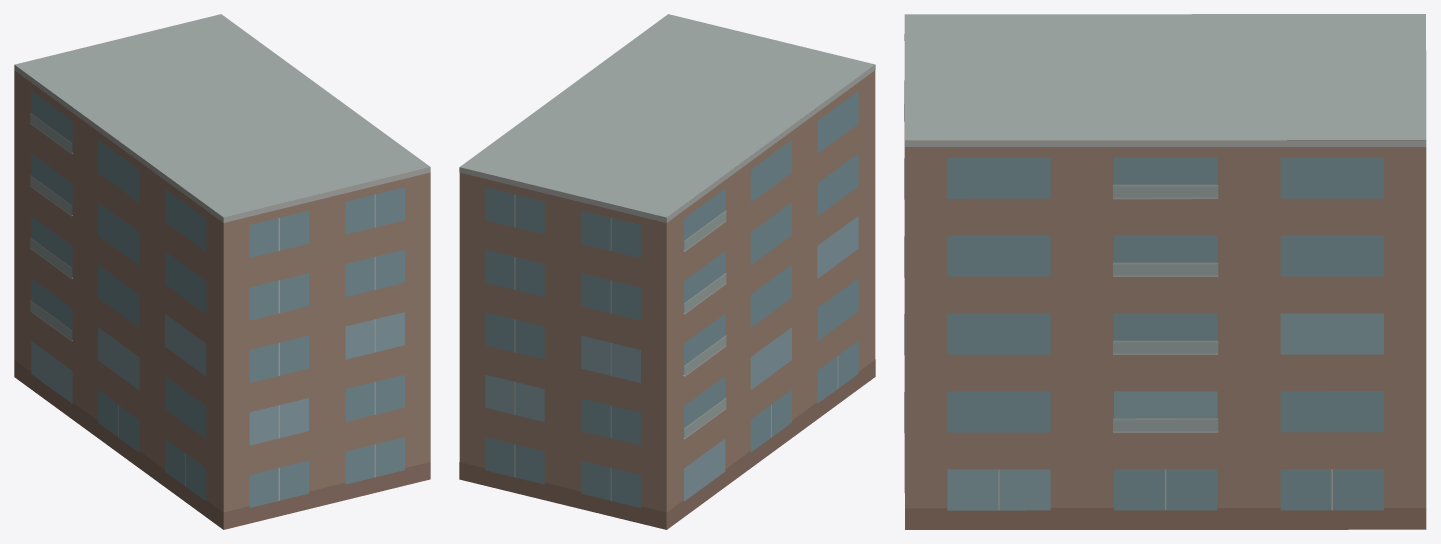
The model's file is survey-upis-32792961.glb.
The picture shows the model from 3 angles, left to right: view 1: azimuth 30°, elevation 25°; view 2: azimuth 150°, elevation 25°; view 3: azimuth 270°, elevation 25°; orthographic projection. The views are drawn at different scales.
Visible parts, largest first — view 1: survey-upis-32792961.tmp; view 2: survey-upis-32792961.tmp; view 3: survey-upis-32792961.tmp.
Boxes of the visible parts, left/top/right/bottom form: survey-upis-32792961.tmp: left=14, top=14, right=430, bottom=529; survey-upis-32792961.tmp: left=459, top=14, right=875, bottom=529; survey-upis-32792961.tmp: left=904, top=14, right=1426, bottom=529.
Bounding box in the file's own units: 9.73 × 13.9 × 16.88.
